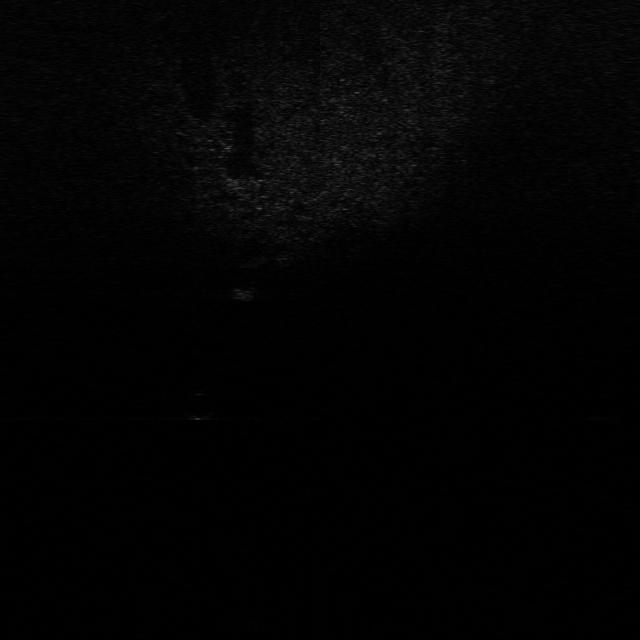ball: (183, 388, 218, 424)
cube: (230, 278, 270, 302)
